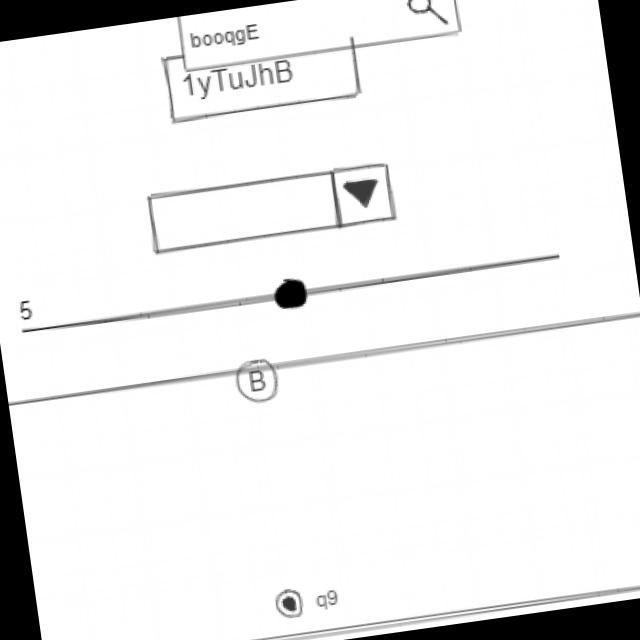container: (8, 310, 640, 640)
icon-button: (233, 354, 284, 407)
input: (160, 27, 366, 125)
radio: (270, 579, 343, 622)
search: (173, 0, 466, 76)
select: (143, 158, 401, 258)
slider: (42, 237, 566, 345)
